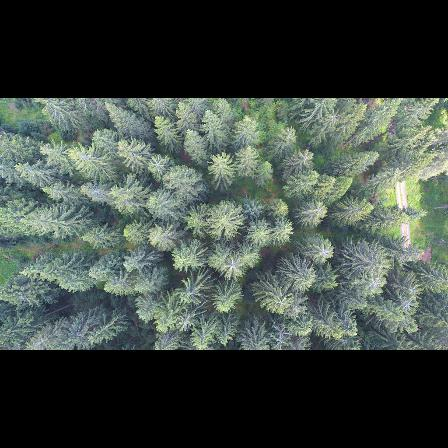Sick: (217, 255, 242, 276), (393, 295, 417, 316), (315, 240, 332, 264), (295, 148, 315, 168)
